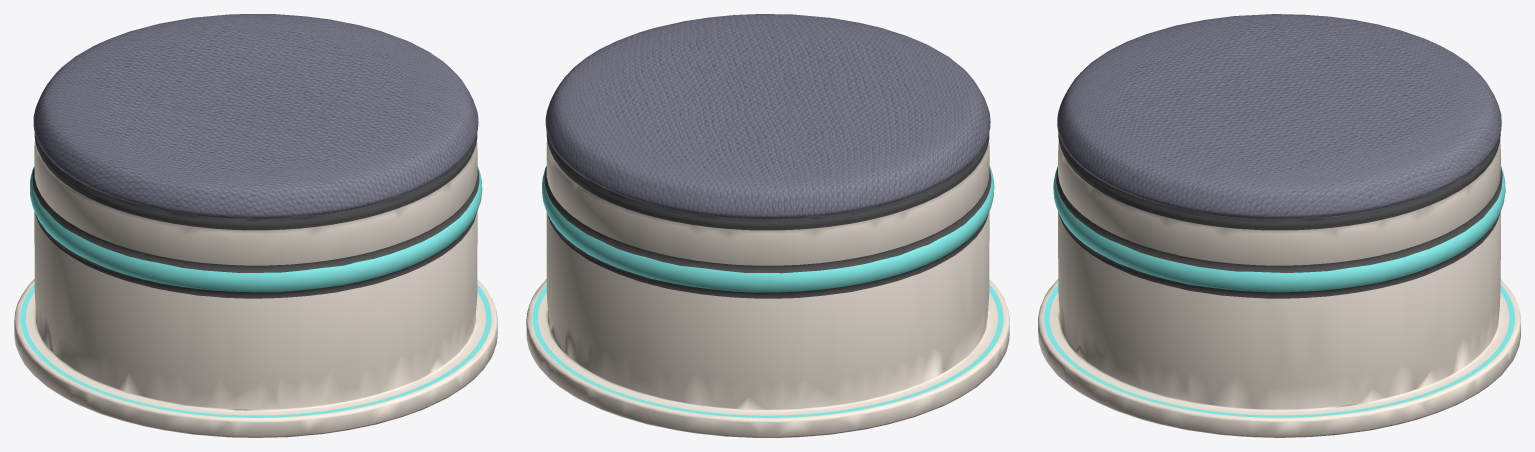
File: banco.obj
The picture shows the model from 3 angles, left to right: view 1: azimuth 30°, elevation 25°; view 2: azimuth 150°, elevation 25°; view 3: azimuth 270°, elevation 25°; orthographic projection.
Visible parts, largest first — view 1: Banco; view 2: Banco; view 3: Banco.
Part boxes in pixels (x1,y1,x2,y2): Banco: (14,14,497,437); Banco: (526,14,1009,437); Banco: (1038,14,1520,437).
Size of the model in its own units: 1.99 by 1.11 by 1.99.
